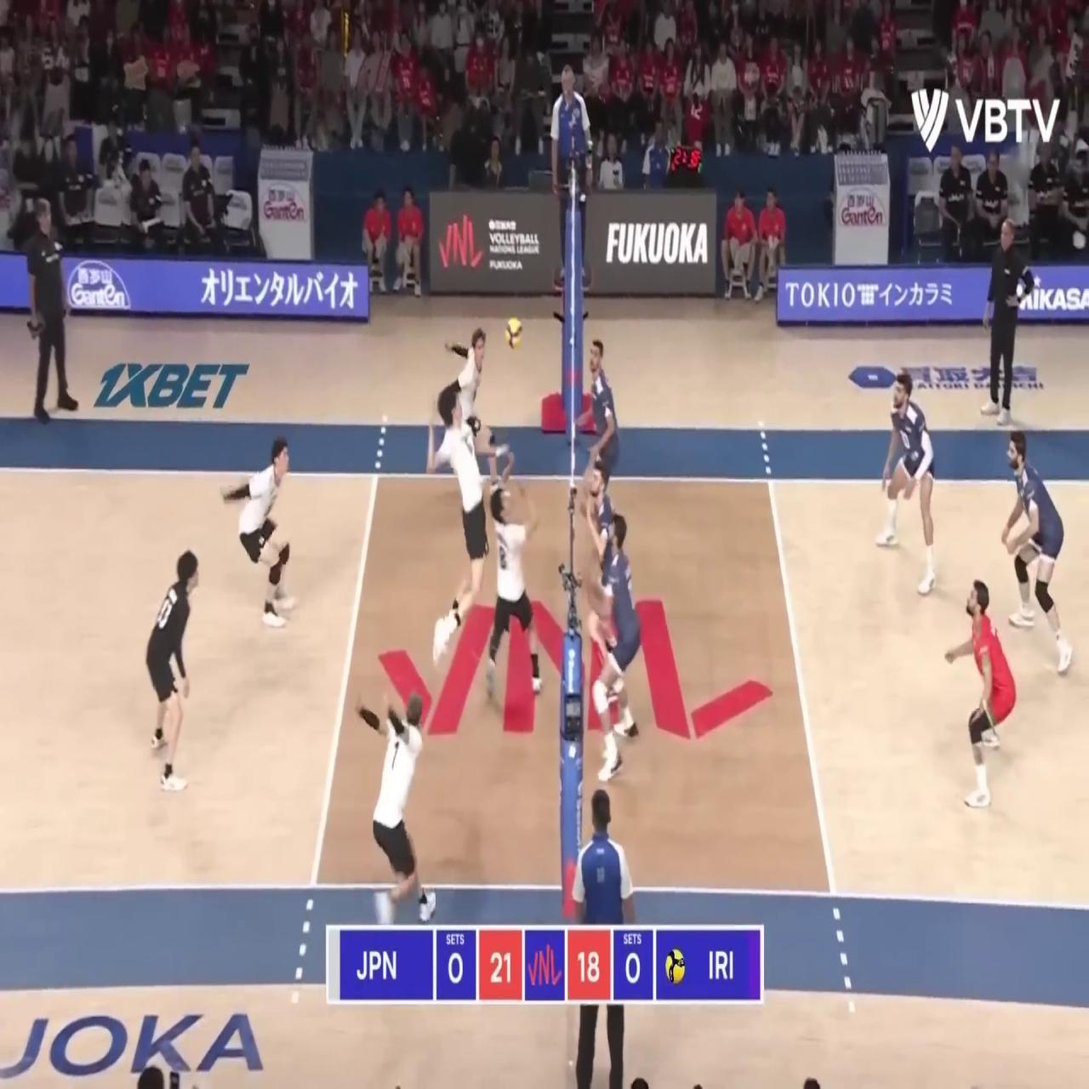ball: (506, 318, 524, 350)
